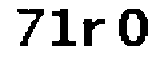0: (117, 6, 153, 50)
1: (49, 5, 78, 50)
7: (13, 5, 47, 49)
r: (82, 14, 107, 51)
